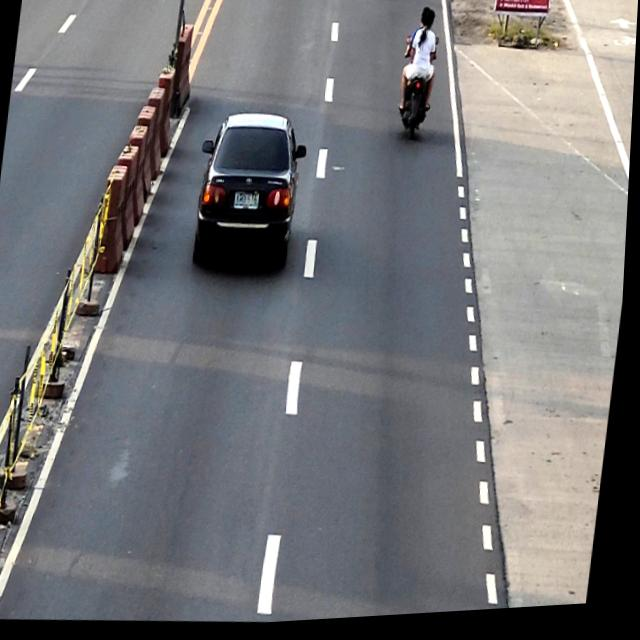Car: (189, 109, 312, 281)
License-Plate: (235, 194, 261, 214)
Motorcycle: (395, 36, 441, 147)
